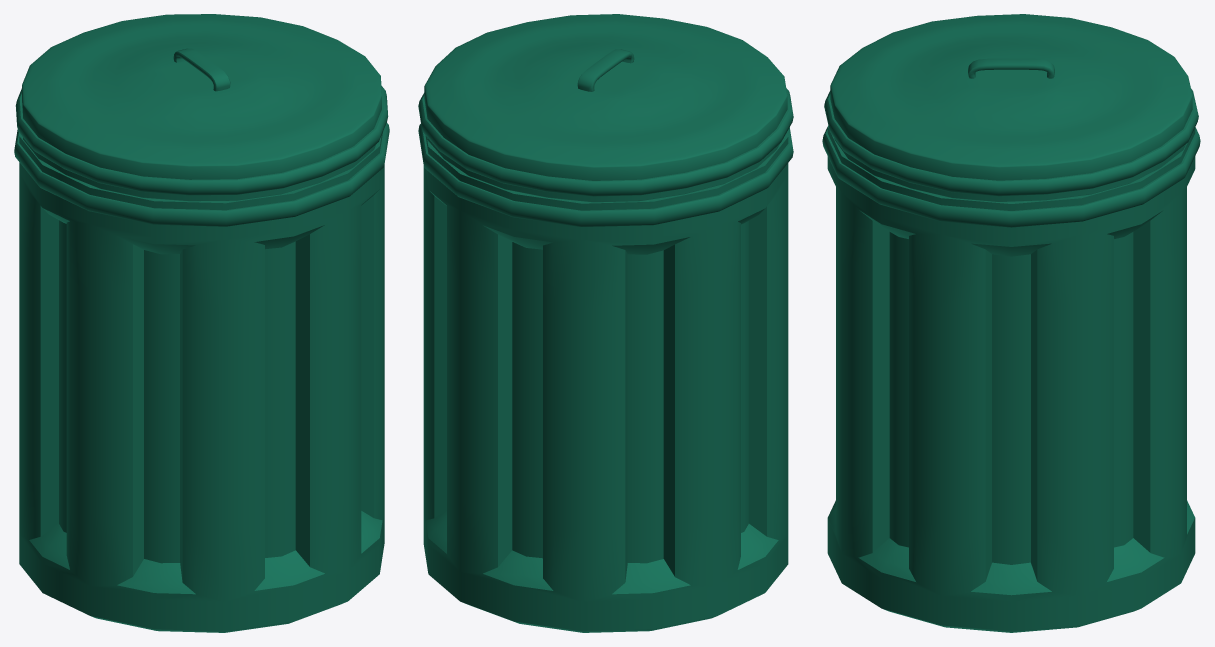
Rendered from 垃圾桶.fbx.
3 renders of one model, left to right at view 1: azimuth 30°, elevation 25°; view 2: azimuth 150°, elevation 25°; view 3: azimuth 270°, elevation 25°, orthographic.
Parts seen in each view (by area): view 1: 圆柱, 盖, 手柄; view 2: 圆柱, 盖, 手柄; view 3: 圆柱, 盖, 手柄.
Part boxes in pixels (x1,y1,x2,y2): 圆柱: [14, 122, 389, 632]; 盖: [15, 14, 388, 201]; 手柄: [173, 48, 230, 91]; 圆柱: [418, 124, 793, 632]; 盖: [418, 14, 793, 202]; 手柄: [577, 49, 634, 91]; 圆柱: [822, 125, 1200, 632]; 盖: [824, 14, 1198, 201]; 手柄: [968, 58, 1054, 78].
Size of the model in its own units: 19.91 by 28.97 by 19.91.
